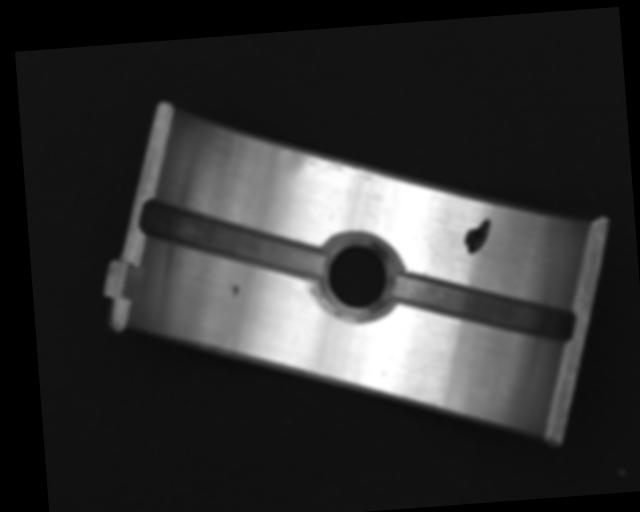blot: (462, 218, 494, 255)
bruise: (230, 283, 240, 298)
gap: (142, 189, 326, 292), (393, 263, 579, 355)
hole: (317, 233, 402, 324)
